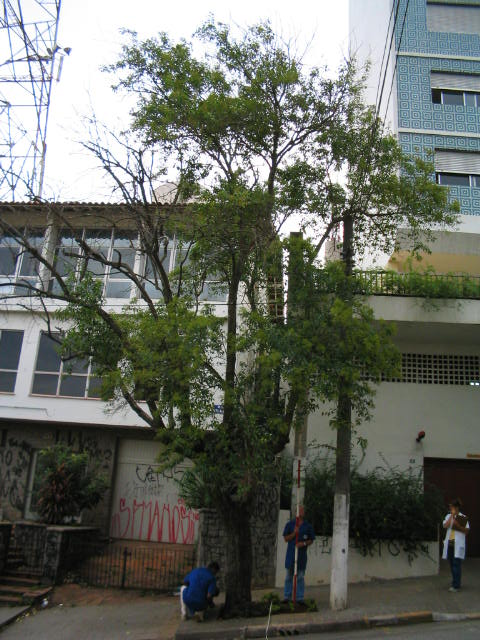crown: (59, 15, 460, 488)
stem: (207, 504, 263, 615)
stick: (288, 459, 305, 610)
tree: (55, 13, 459, 616)
